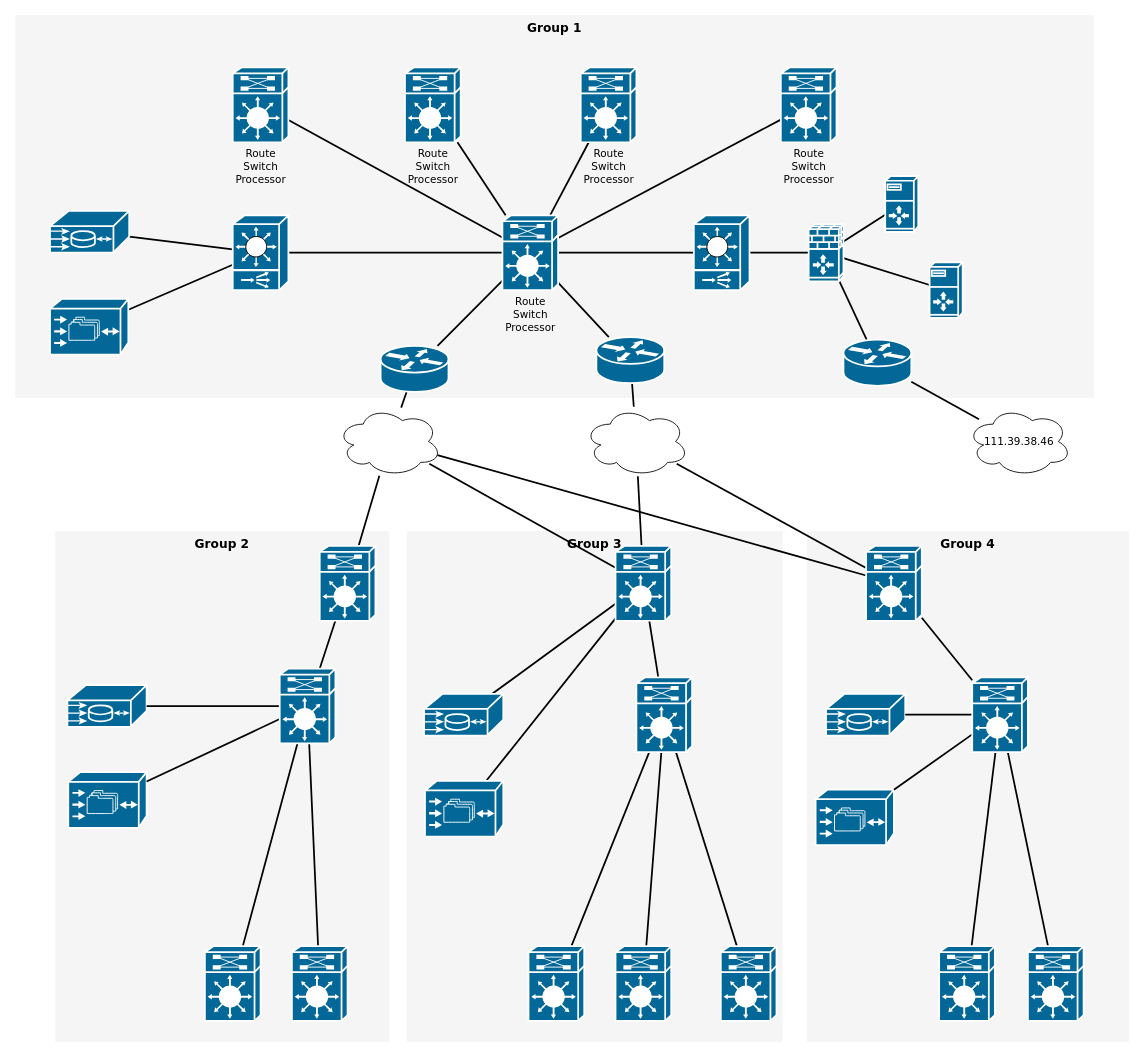
Image size: 1143x1056. Some labels were removed from this diagram. The shapes that lost their labels are listed below. From the top down, each one's centre as x and y in pixels, then its label:
At [389,441]: "LAN".
At [636,441]: "Cloud".
